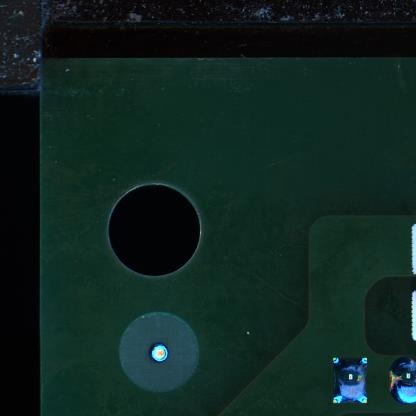spot: (334, 359, 367, 401), (389, 357, 416, 404)
